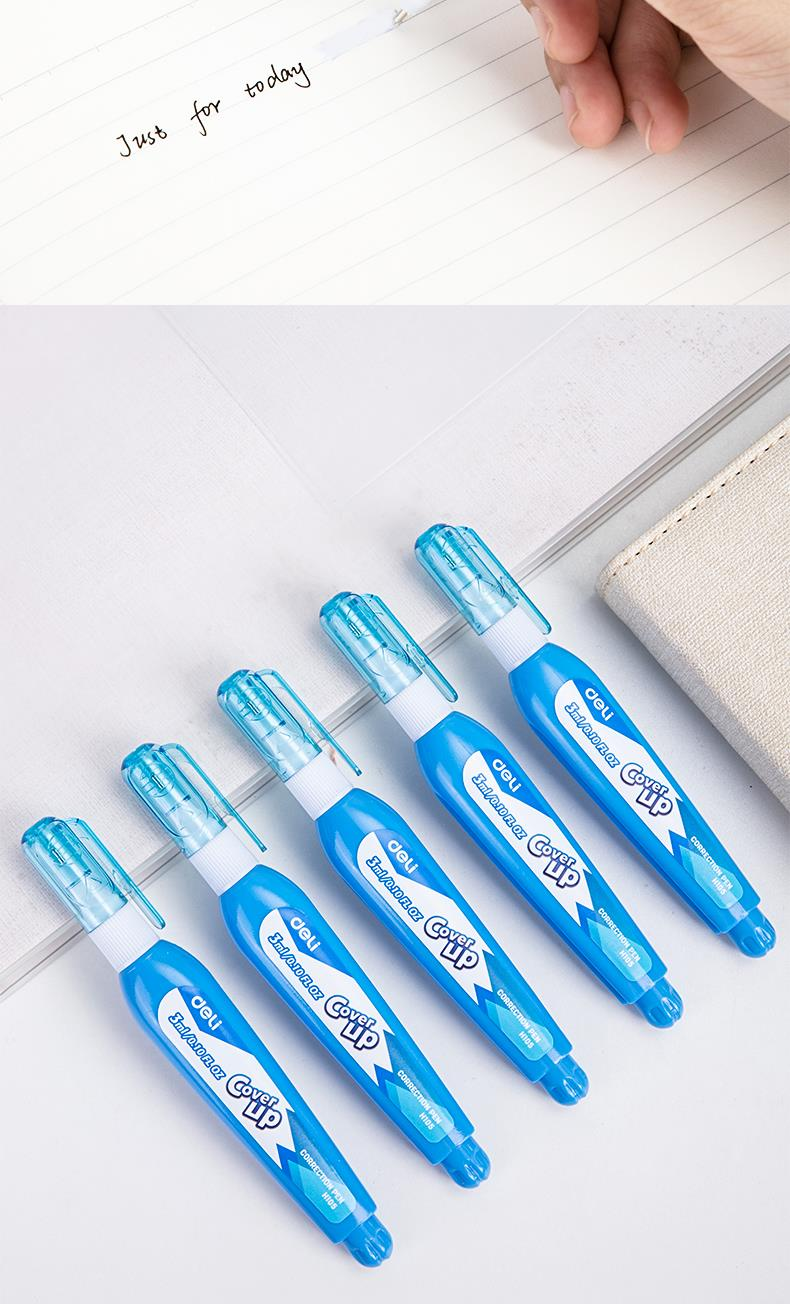Correction_fluid: (114, 731, 496, 1200), (18, 810, 396, 1276), (212, 662, 591, 1108), (415, 512, 779, 964), (319, 586, 686, 1032)
